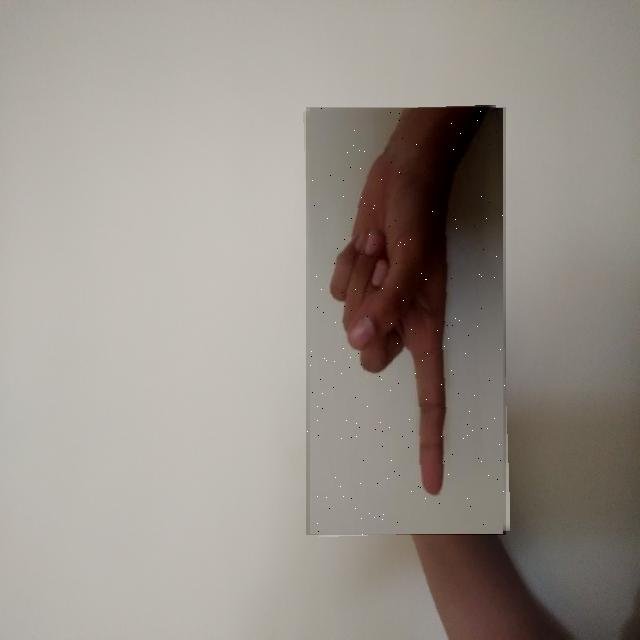IloveYou: (306, 107, 506, 535)
